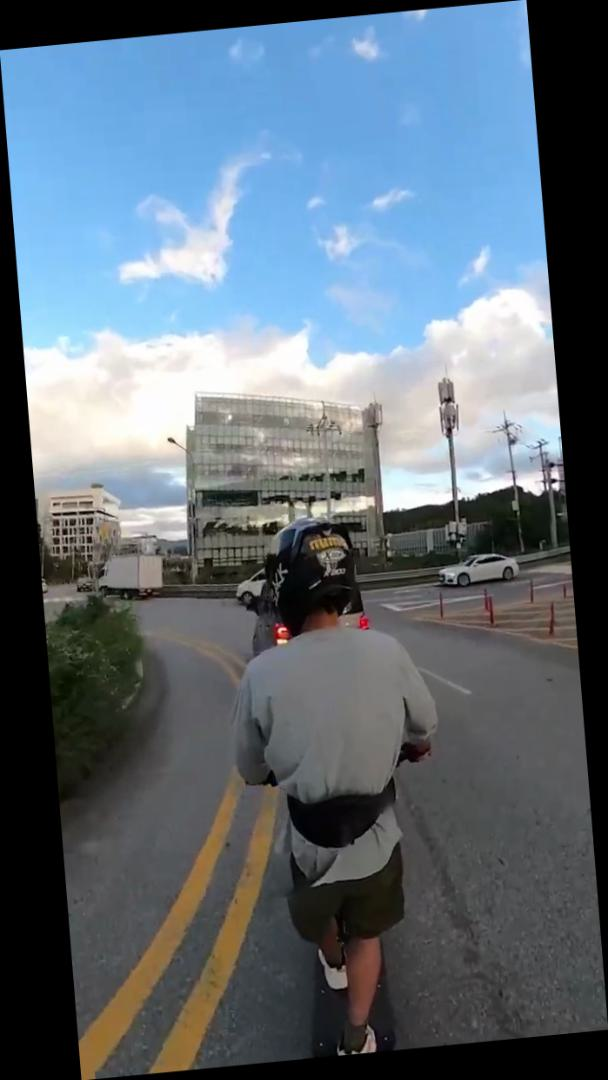helmet: (209, 505, 471, 1064)
